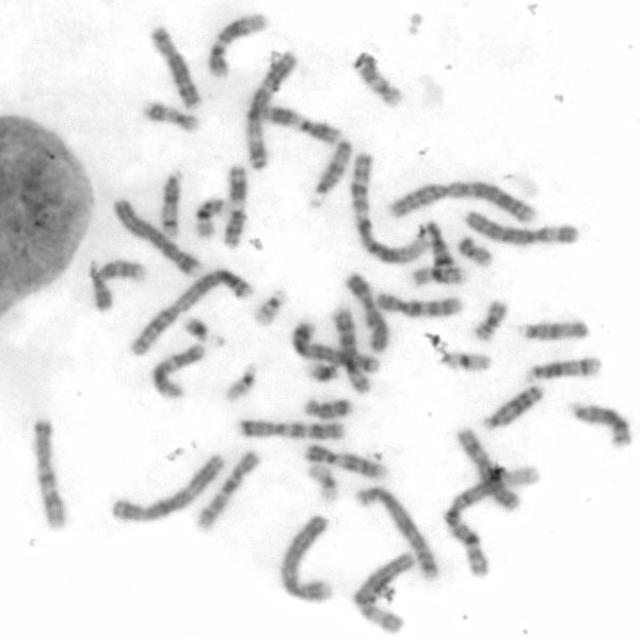A1: (437, 459, 546, 578), (346, 146, 431, 268)
A2: (126, 264, 258, 357), (382, 176, 539, 223)
A3: (107, 446, 228, 525), (240, 46, 301, 172)
B4: (108, 192, 205, 277), (274, 509, 337, 604)
B5: (353, 485, 438, 584), (287, 315, 383, 376)
C10: (191, 445, 263, 532), (371, 286, 465, 318)
C11: (250, 100, 344, 146), (218, 158, 250, 249)
C12: (203, 6, 271, 78), (147, 339, 207, 400)
C6: (349, 548, 419, 635), (461, 206, 580, 246)
C7: (27, 414, 70, 532), (232, 413, 349, 441)
C8: (146, 20, 204, 110), (326, 301, 374, 394)
C9: (84, 253, 150, 312), (300, 439, 389, 480)
D13: (476, 378, 547, 432), (563, 396, 635, 449)
D14: (520, 351, 605, 384), (154, 164, 186, 238)
D15: (305, 134, 354, 208), (512, 314, 592, 342)
E16: (190, 193, 228, 240), (408, 263, 466, 287)
E17: (349, 44, 407, 110), (136, 95, 202, 134)
E18: (423, 230, 464, 285), (300, 393, 354, 419)
F19: (303, 458, 342, 503), (435, 346, 495, 373)
F20: (469, 294, 511, 342), (452, 230, 495, 268)
G21: (179, 310, 228, 348), (302, 355, 341, 384)
G22: (246, 281, 292, 327), (220, 359, 260, 403)
X: (452, 421, 524, 514), (342, 268, 392, 354)
